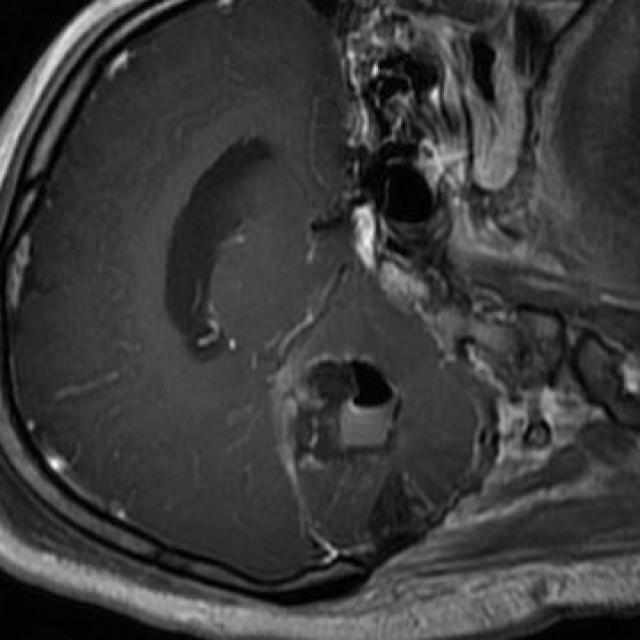glioma: (269, 353, 403, 465)
